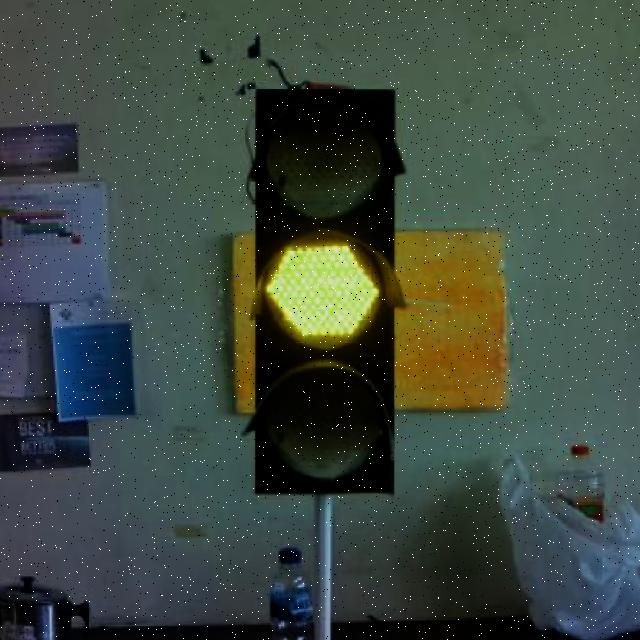Lampu Kuning: (242, 82, 401, 490)
